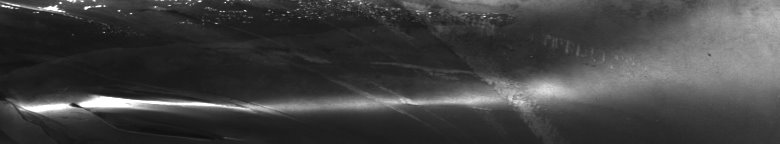ke: (4, 4, 524, 124)
